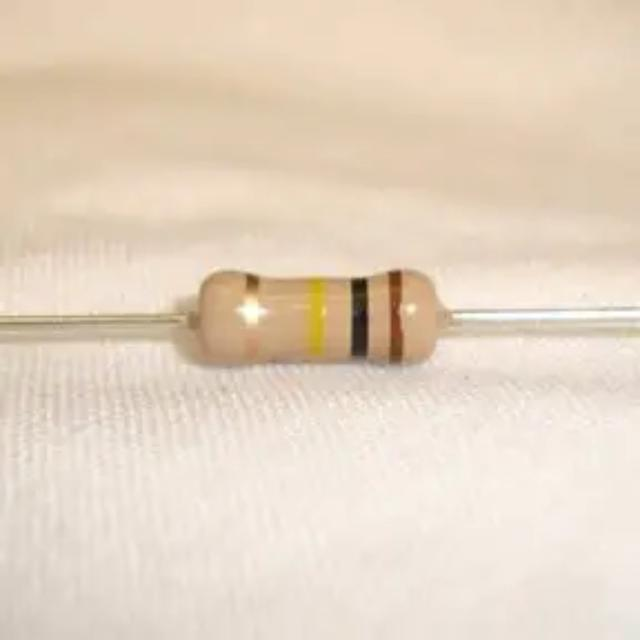black: (350, 277, 370, 361)
brown: (390, 268, 404, 367)
gold: (239, 270, 262, 370)
resistor: (170, 229, 456, 386)
yellow: (302, 278, 331, 364)
